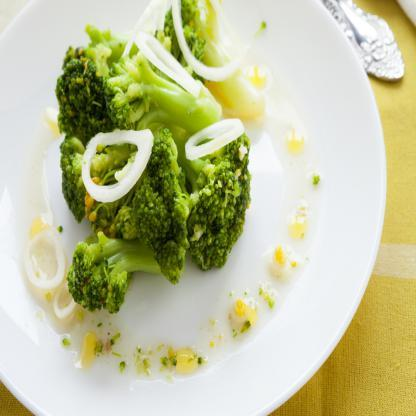broccoli: (55, 0, 253, 317)
